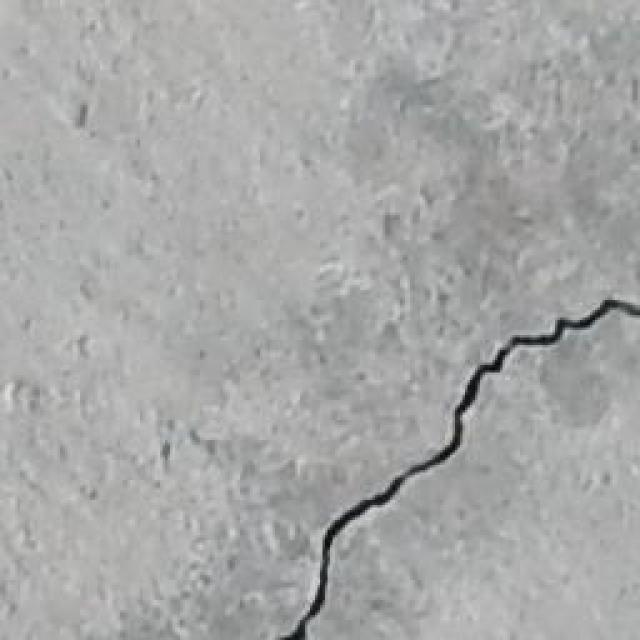concrete-crack: (282, 300, 640, 640)
